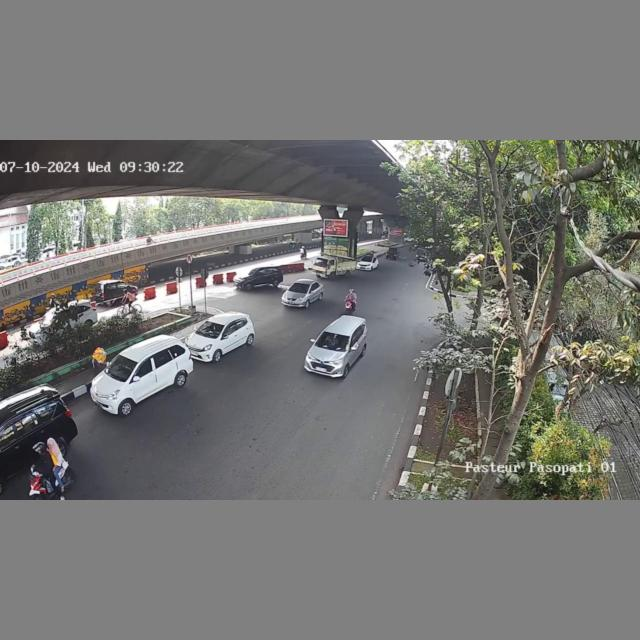windshield: (105, 354, 137, 378), (316, 330, 352, 351), (195, 320, 224, 335), (290, 283, 310, 294)
